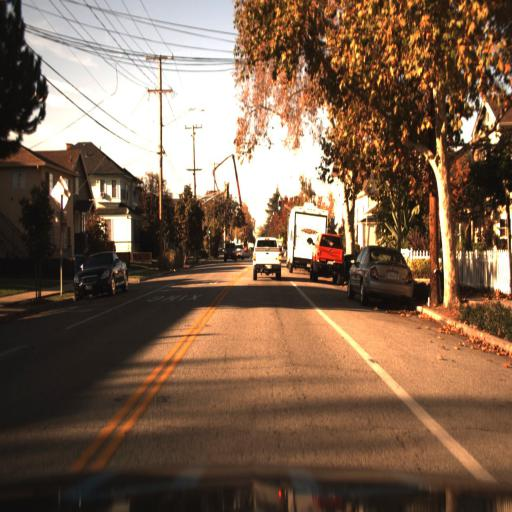car: (346, 241, 414, 311), (70, 247, 128, 302), (306, 228, 345, 282), (245, 238, 281, 288), (221, 240, 239, 265)
truck: (283, 201, 333, 276), (286, 199, 331, 273)
